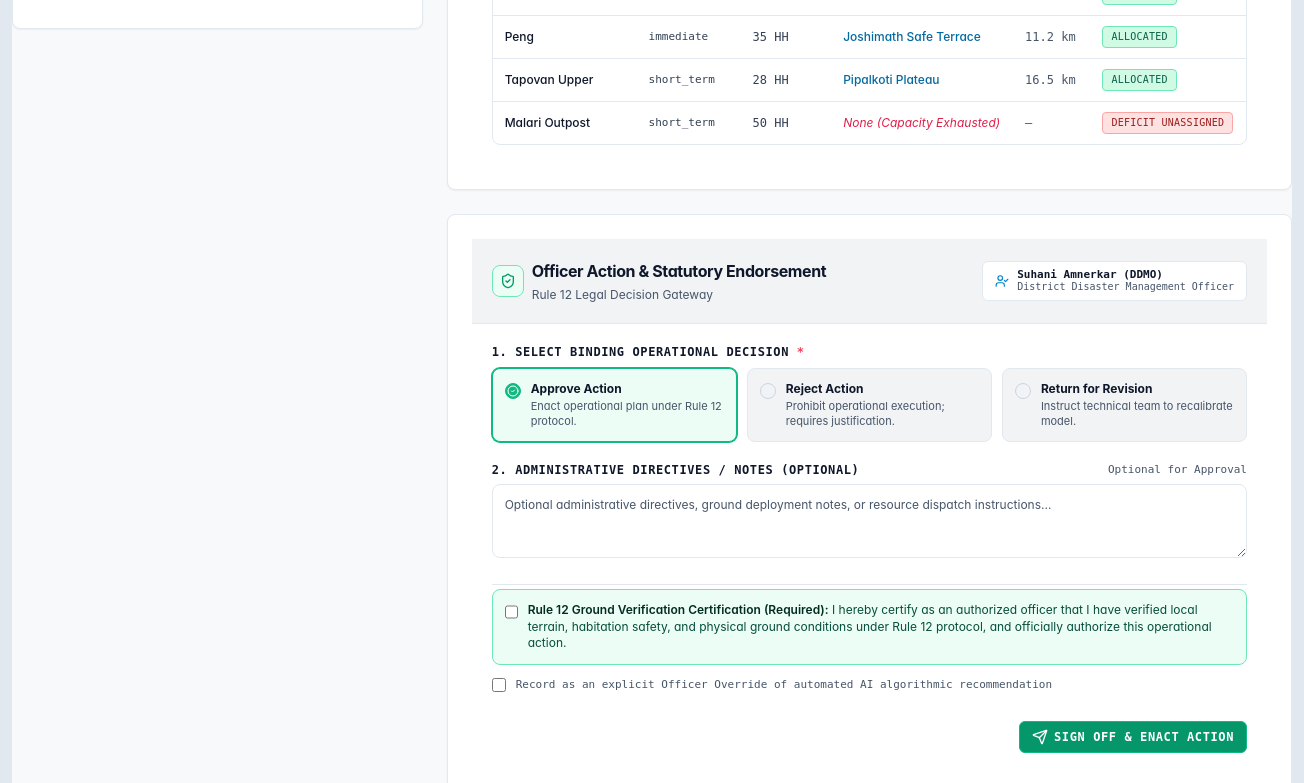
Scenario: Officer Review & Action Sign-Off UI Suite (Chunk M6-08) › 8. Approve Action: successfully approves recommendation when statutory confirmation is checked
(page scrolled)
Click the checkbox labelled "Rule 12 Ground Verification Certification".
click(511, 612)  # box x1=505 y1=604 x2=518 y2=620
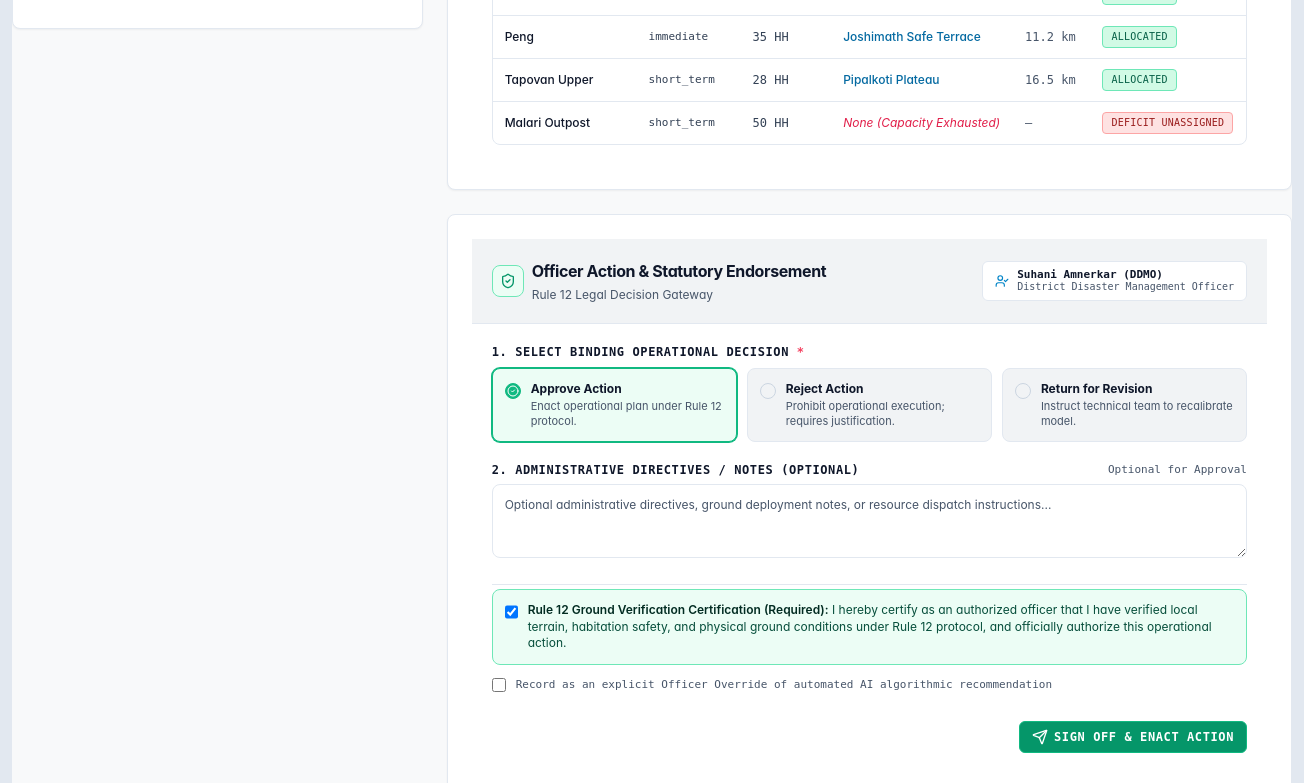
Replace the text in the text box labelled "2. Administrative Directives / Notes (Optional)" with "Approved following field inspection by Tehsildar Joshimath." at coordinates (869, 521), box x1=492 y1=484 x2=1247 y2=558
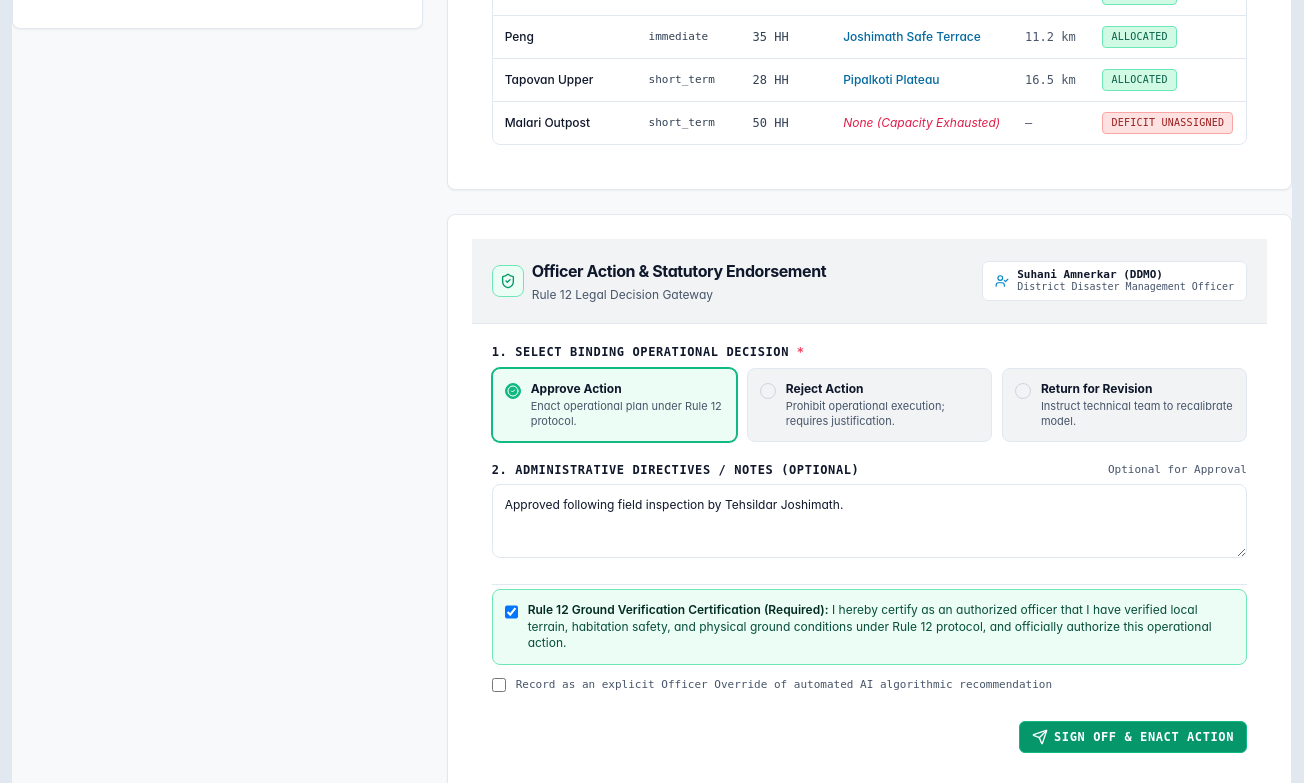
Note: Click Sign Off
Click the button "Sign Off & Enact Action".
click(1133, 737)  # box x1=1019 y1=721 x2=1247 y2=753
(page scrolled)
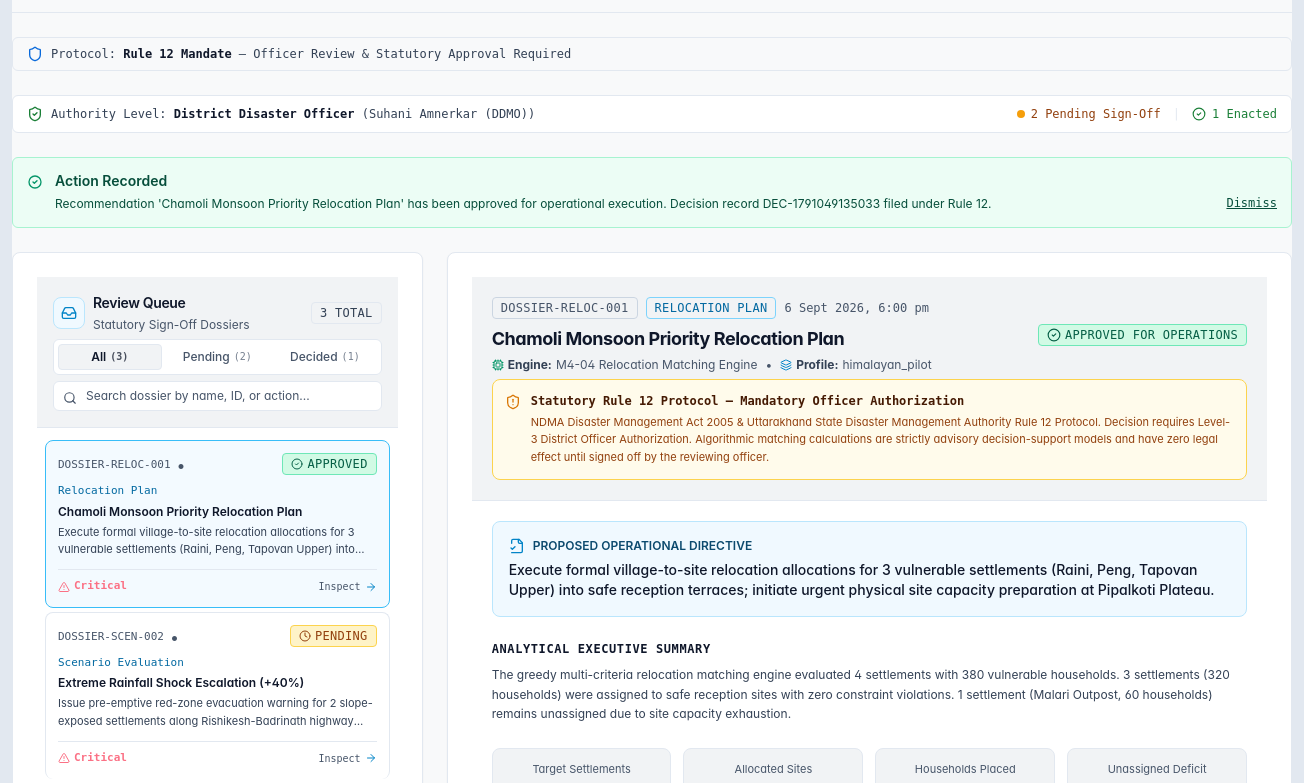
Expected: the text "has been approved for operational execution" is shown, x1=55 y1=196 x2=992 y2=210
Expected: the text "2 Pending Sign-Off" is shown, x1=1031 y1=106 x2=1161 y2=122
Expected: the text "1 Enacted" is shown, x1=1212 y1=106 x2=1277 y2=122
